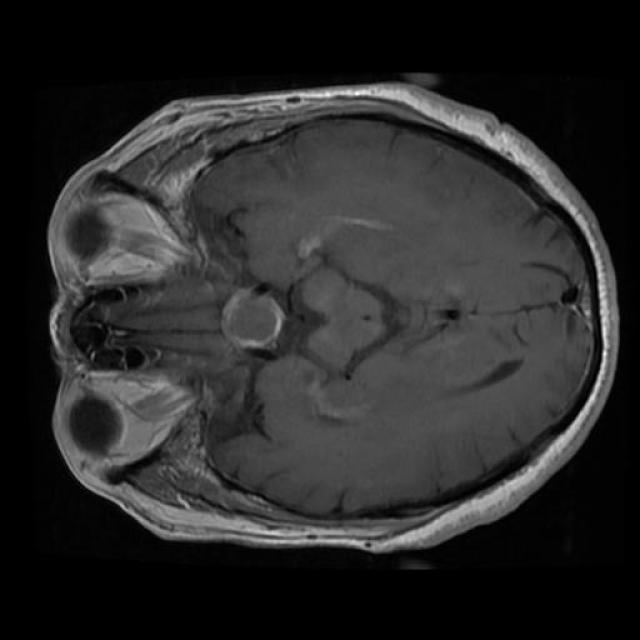Pituitary: (219, 283, 291, 349)
